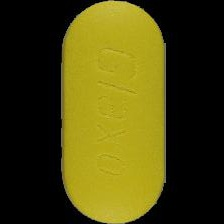0173-0393: (0, 0, 224, 224)
